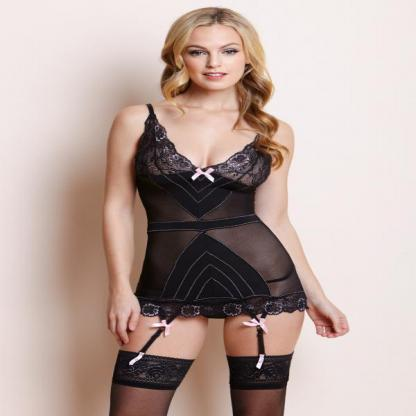long-hair: (140, 90, 284, 119)
